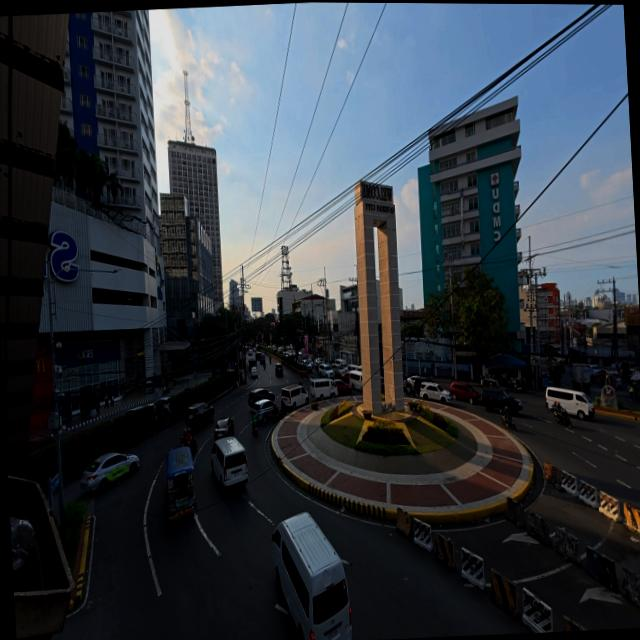car: (80, 449, 142, 493), (478, 388, 524, 416), (446, 380, 482, 404), (418, 381, 452, 405), (186, 403, 214, 432)
vans: (543, 387, 594, 424)
